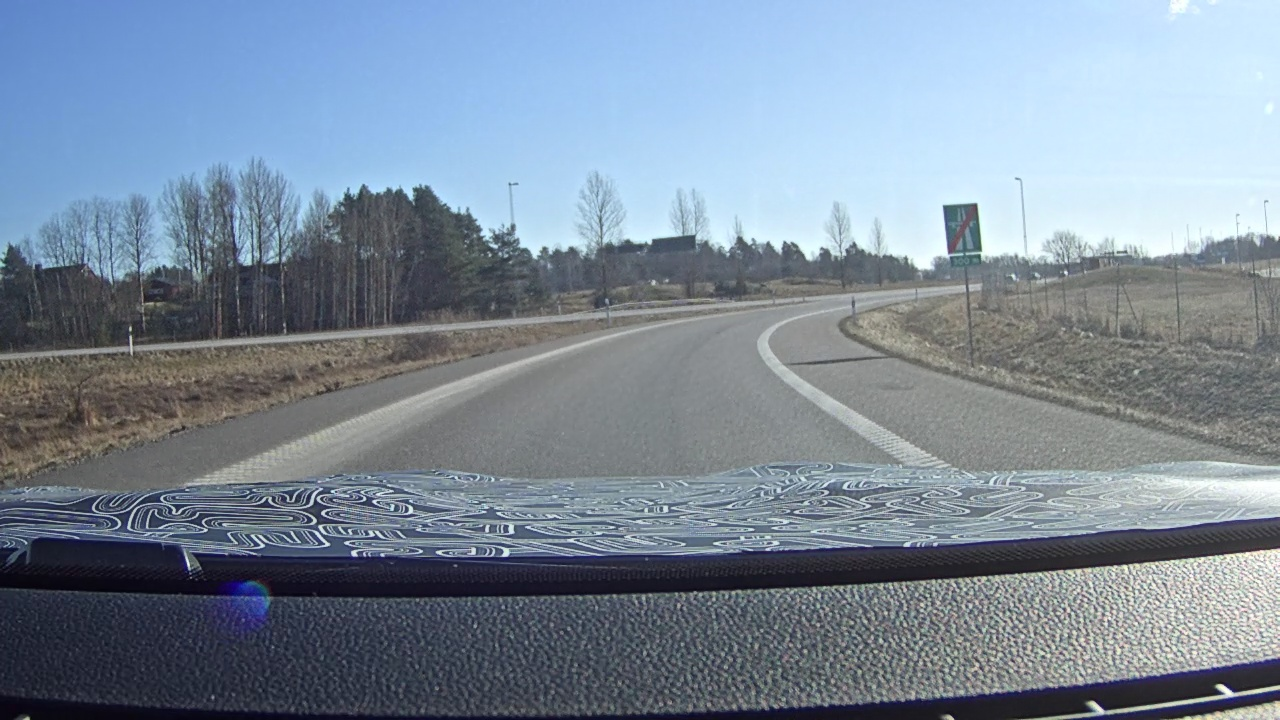Regular_End_Of_Motorway: (944, 202, 982, 253)
